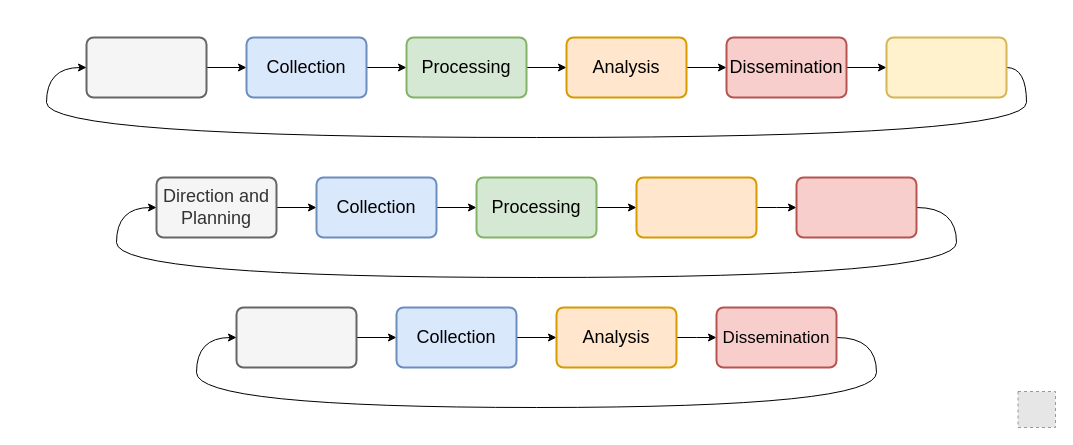
Image size: 1073x445. Some labels were removed from this diagram. Grey dashed boxes stand in for pictures. The centre of each missing label's shape, as x and y in pixels:
Analysis and Production: the point at 696,207
Direction: the point at 146,67
Dissemination and Feedback: the point at 856,207
Feedback: the point at 946,67
Planning: the point at 296,337
